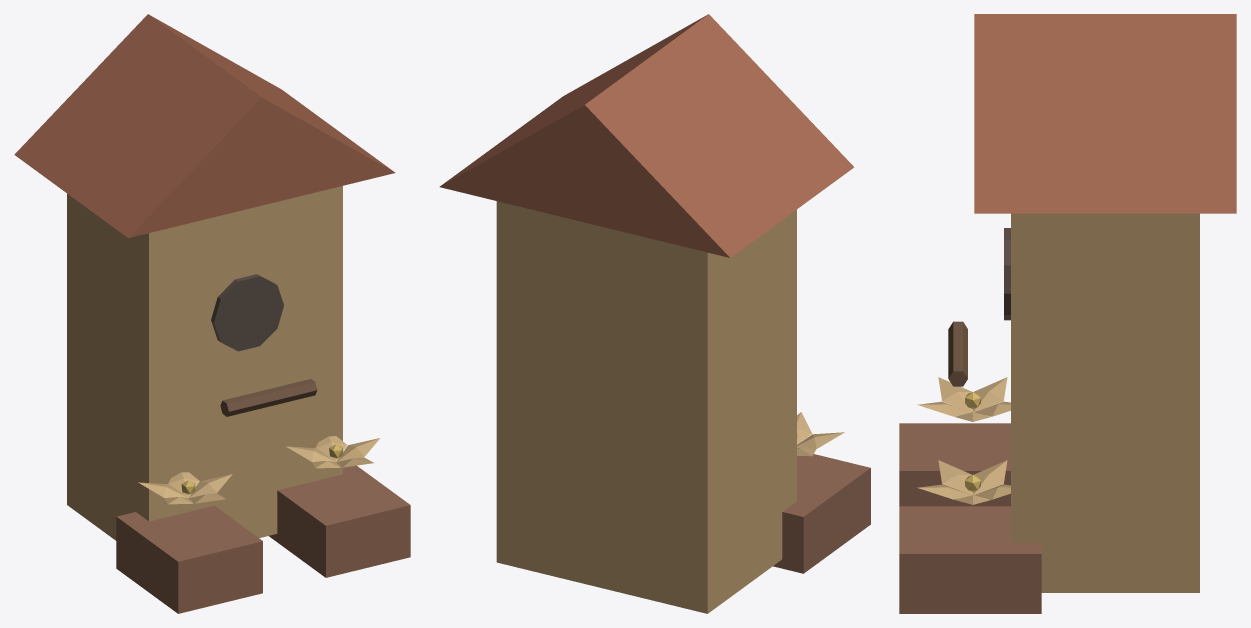
File: map-exclusive-v3__village_02.glb
The picture shows the model from 3 angles, left to right: view 1: azimuth 30°, elevation 25°; view 2: azimuth 150°, elevation 25°; view 3: azimuth 270°, elevation 25°; orthographic projection. The views are drawn at different scales.
Visible parts, largest first — view 1: village_02; view 2: village_02; view 3: village_02.
Boxes of the visible parts, <box> form: village_02: <box>14,14,410,613</box>; village_02: <box>439,14,870,613</box>; village_02: <box>899,14,1236,613</box>.
Bounding box in the file's own units: 1.45 × 2.4 × 1.38.
